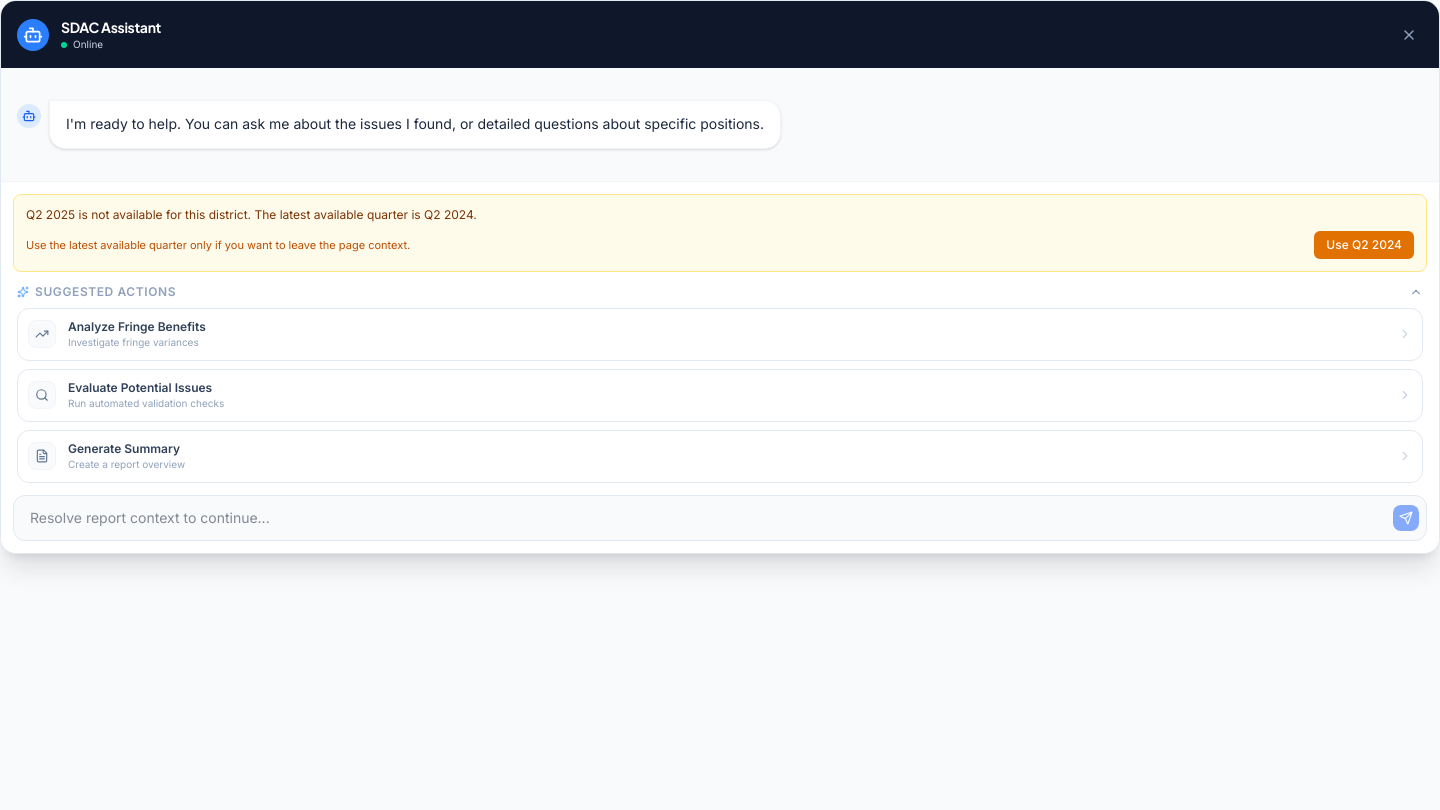
Test: AssistantWidget flows › requires explicit confirmation before loading a fallback quarter
The image size is (1440, 810).
Expected: the field with placeholder "Resolve report context to continue..." is disabled, [13,495,1427,541]
Click the button "Use Q2 2024" at point(1364, 245), box [1314,231,1414,259]
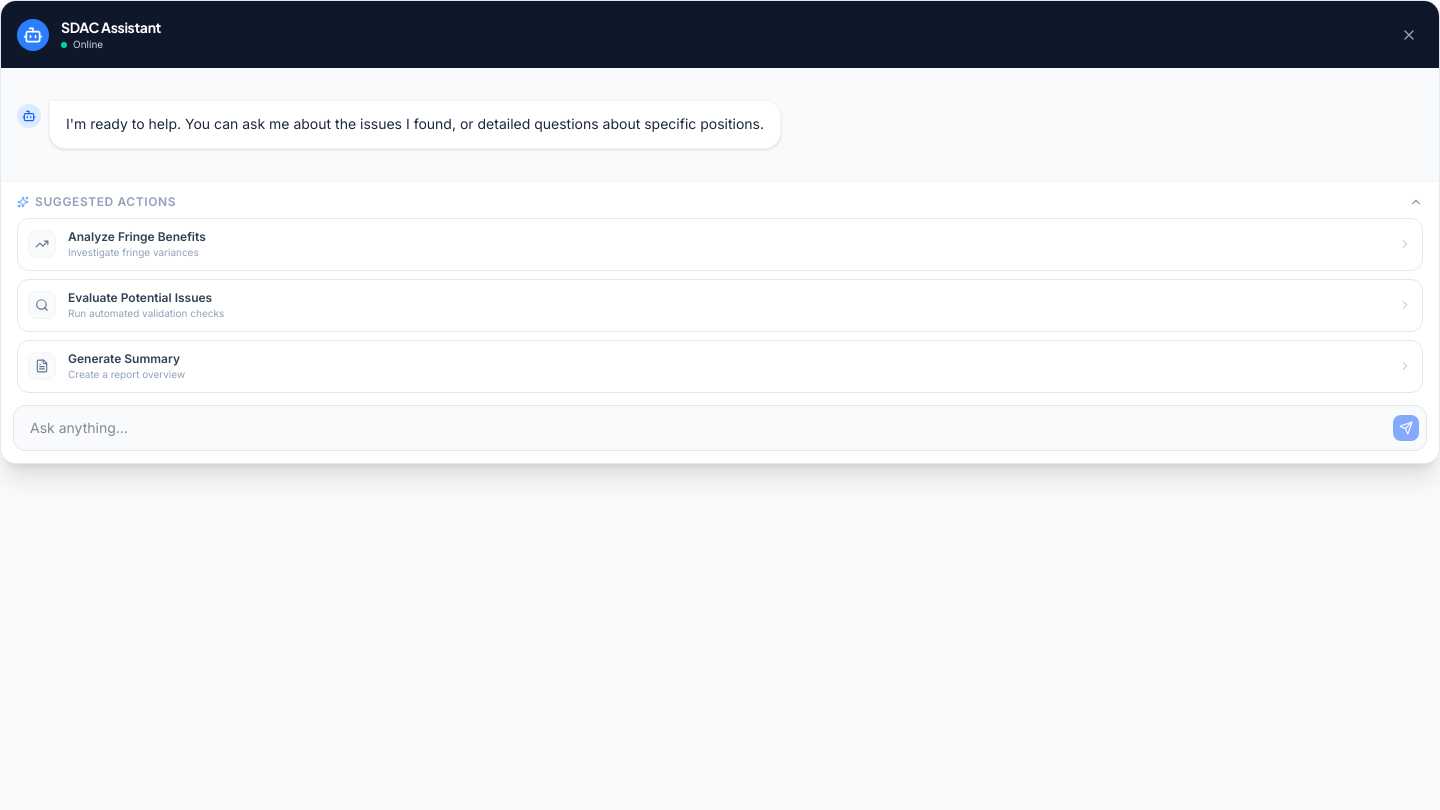
Expected: the field with placeholder "Ask anything..." is enabled, [13,405,1427,451]
